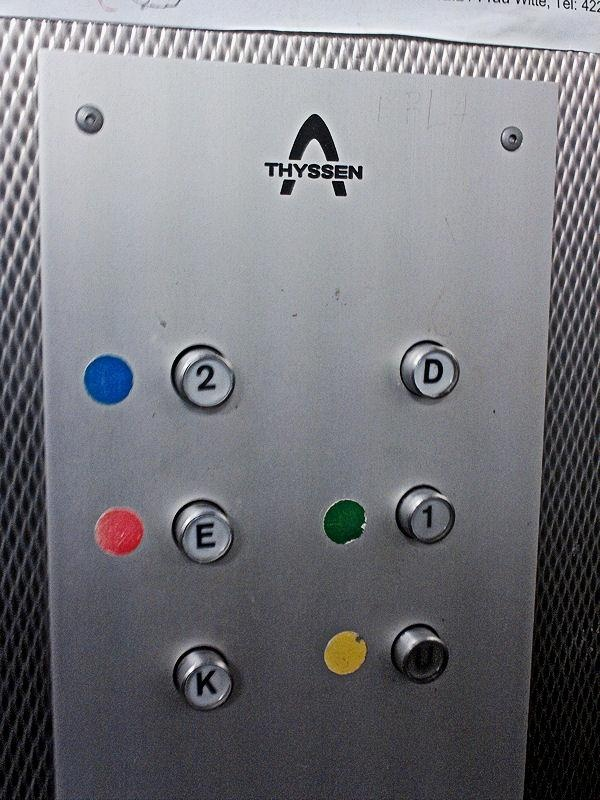1: (396, 483, 457, 546)
2: (170, 346, 237, 411)
D: (399, 338, 462, 402)
E: (172, 497, 237, 566)
K: (170, 646, 234, 711)
U: (391, 622, 451, 687)
